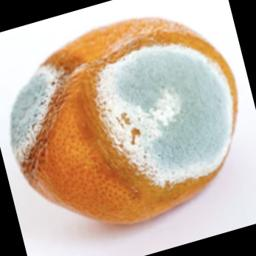Orange Rotten: (6, 34, 256, 256)
